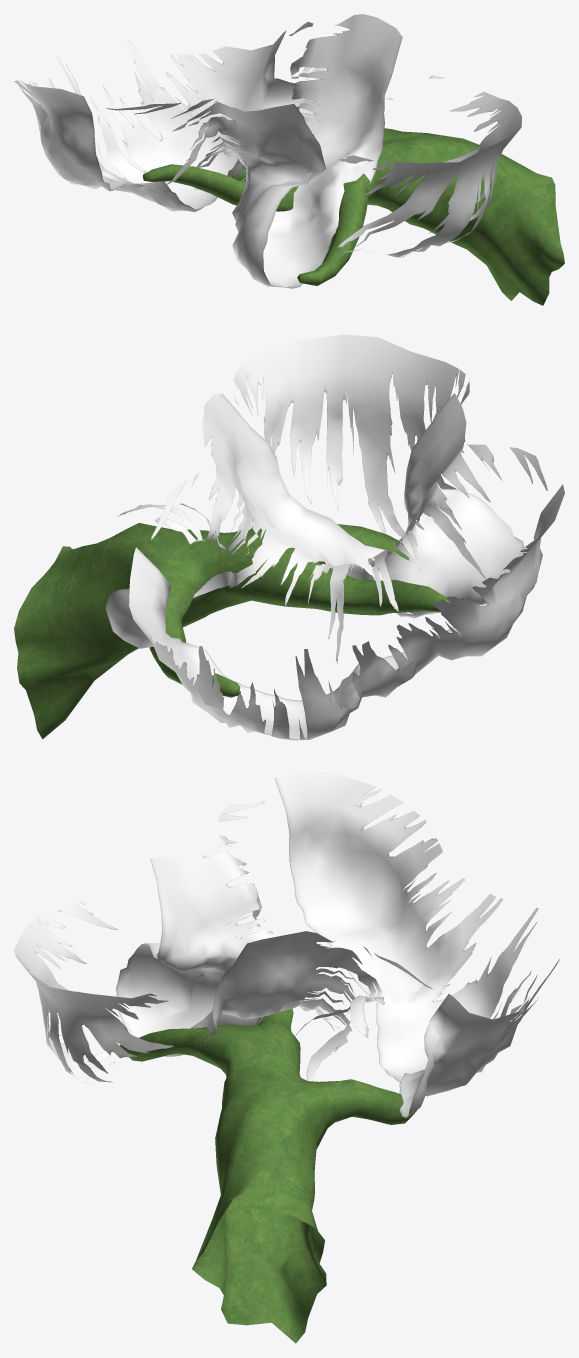
The model's file is SM_ENV_KNFRST_Leaf_I.FBX.
3 views of the same model, one above another, from view 1: azimuth 30°, elevation 25°; view 2: azimuth 150°, elevation 25°; view 3: azimuth 270°, elevation 25° (orthographic). The views are drawn at different scales.
Parts seen in each view (by area): view 1: SM_ENV_KNFRST_Leaf_I; view 2: SM_ENV_KNFRST_Leaf_I; view 3: SM_ENV_KNFRST_Leaf_I.
Boxes of the visible parts, left/top/right/bottom form: SM_ENV_KNFRST_Leaf_I: left=14, top=14, right=564, bottom=305; SM_ENV_KNFRST_Leaf_I: left=14, top=334, right=564, bottom=740; SM_ENV_KNFRST_Leaf_I: left=14, top=769, right=559, bottom=1343.
Size of the model in its own units: 3762 by 2459 by 3595.
